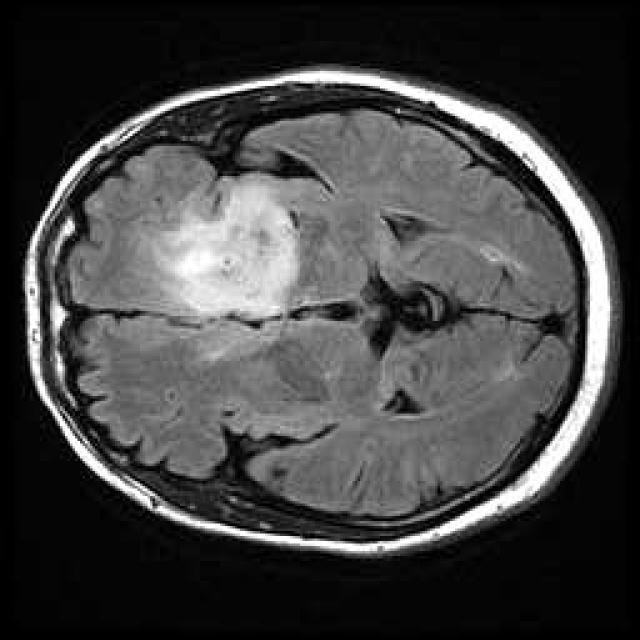tumor: (155, 178, 302, 318)
